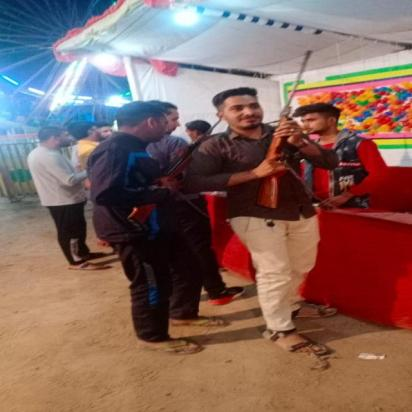Gun: (124, 117, 224, 231), (253, 49, 317, 211)
